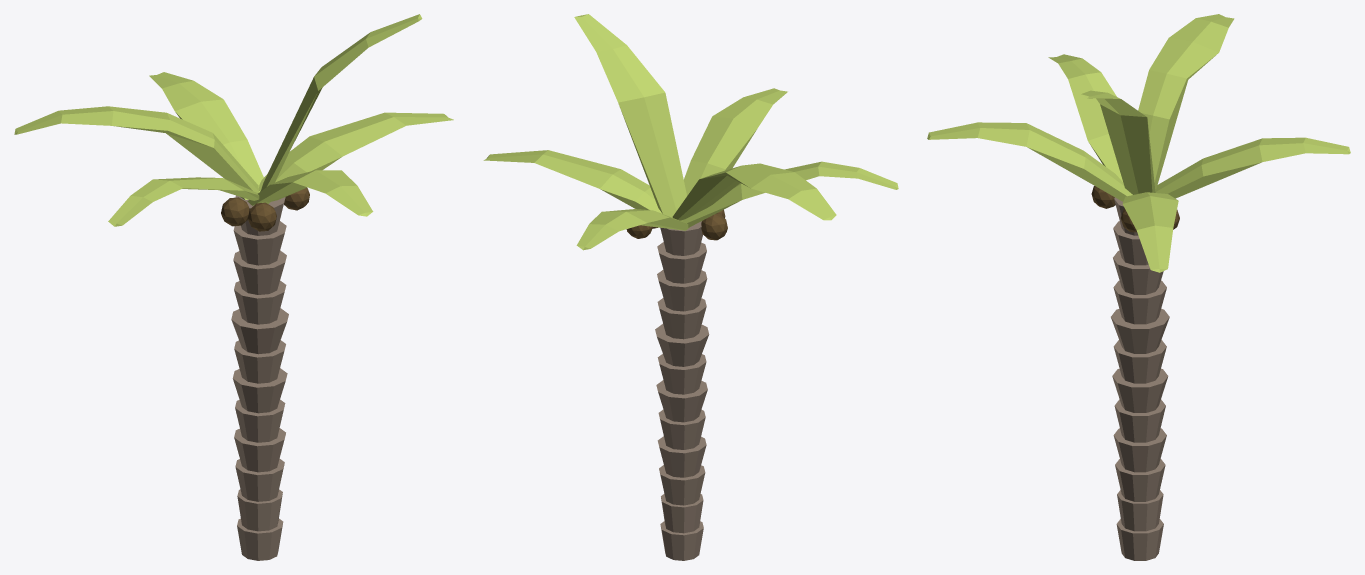
The model's file is Palmtree_1.fbx.
3 views of the same model, side by side, from view 1: azimuth 30°, elevation 25°; view 2: azimuth 150°, elevation 25°; view 3: azimuth 270°, elevation 25° (orthographic). The views are drawn at different scales.
Visible parts, largest first — view 1: Palmtree_mesh; view 2: Palmtree_mesh; view 3: Palmtree_mesh.
Boxes of the visible parts, x1,y1,x2,y2 form: Palmtree_mesh: (14, 14, 453, 560); Palmtree_mesh: (483, 14, 898, 560); Palmtree_mesh: (927, 14, 1350, 560).
Size of the model in its own units: 599 by 739 by 543.
